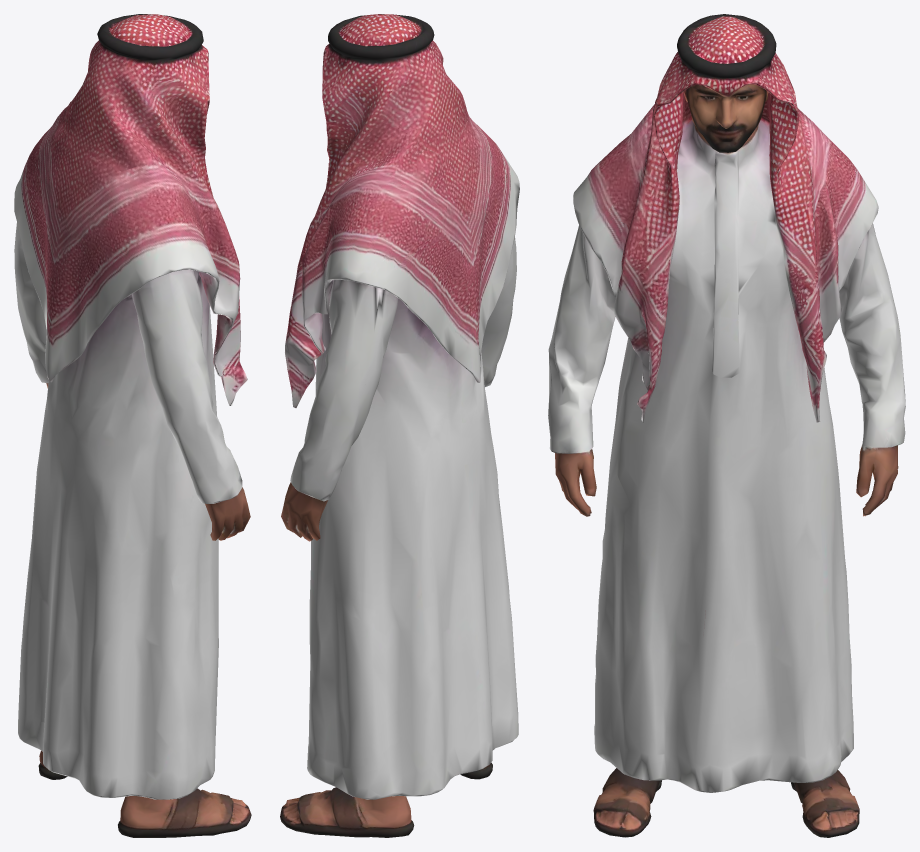
The model's file is person-thobe.glb.
3 views of the same model, side by side, from view 1: azimuth 30°, elevation 25°; view 2: azimuth 150°, elevation 25°; view 3: azimuth 270°, elevation 25° (orthographic). The views are drawn at different scales.
Visible parts, largest first — view 1: tripo_node_13c7b25e-003b-4816-8ad1-129acea94a48; view 2: tripo_node_13c7b25e-003b-4816-8ad1-129acea94a48; view 3: tripo_node_13c7b25e-003b-4816-8ad1-129acea94a48.
Boxes of the visible parts, x1,y1,x2,y2 form: tripo_node_13c7b25e-003b-4816-8ad1-129acea94a48: (14,14,251,837); tripo_node_13c7b25e-003b-4816-8ad1-129acea94a48: (280,14,519,837); tripo_node_13c7b25e-003b-4816-8ad1-129acea94a48: (548,14,905,837).
Size of the model in its own units: 0.2155 by 1 by 0.4097.
Materials: 1 (1 with a texture image).
